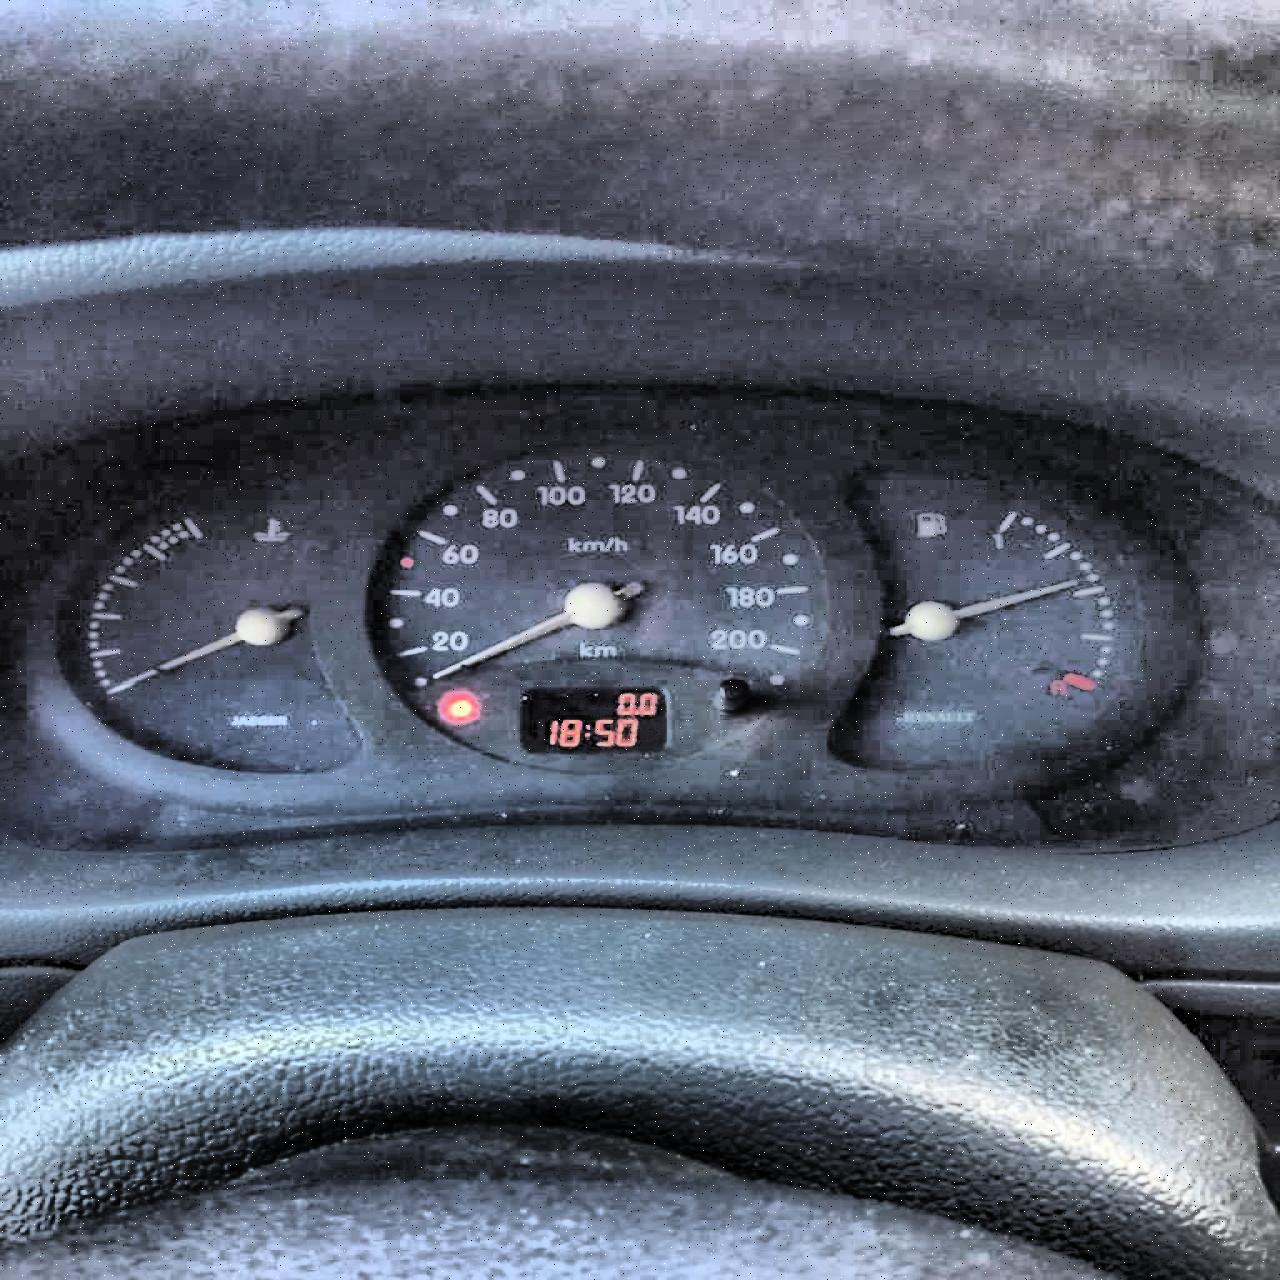-: (632, 708, 639, 714)
0: (613, 717, 636, 744), (636, 693, 655, 714), (617, 693, 633, 714)
1: (549, 719, 557, 745)
5: (593, 717, 612, 744)
8: (558, 719, 579, 747)
X: (581, 722, 591, 736)
odometer: (517, 685, 670, 755)
